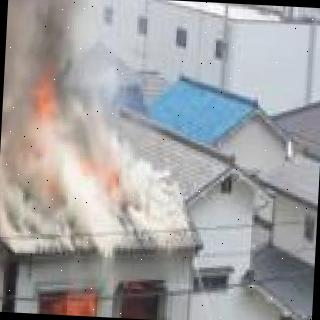fire: (27, 85, 145, 201), (29, 277, 171, 320)
